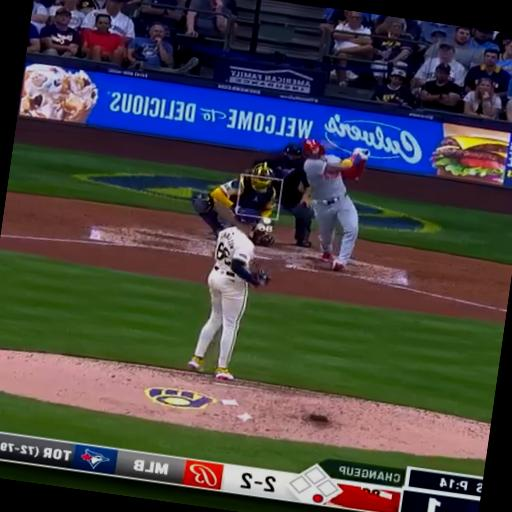bat: (323, 142, 355, 149)
